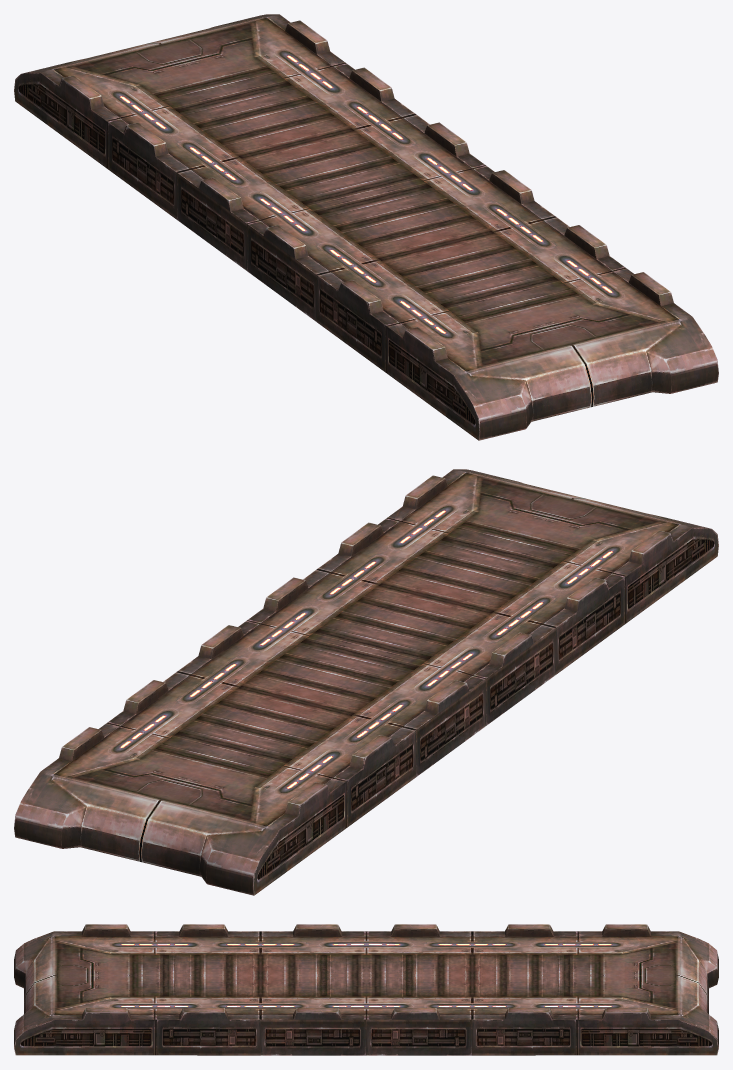
Rendered from kor_vod_ruins_ramp.glb.
3 views of the same model, one above another, from view 1: azimuth 30°, elevation 25°; view 2: azimuth 150°, elevation 25°; view 3: azimuth 270°, elevation 25° (orthographic). The views are drawn at different scales.
Visible parts, largest first — view 1: kor_vod_ruins_ramp; view 2: kor_vod_ruins_ramp; view 3: kor_vod_ruins_ramp.
Part boxes in pixels (x1,y1,x2,y2): kor_vod_ruins_ramp: [14, 14, 718, 440]; kor_vod_ruins_ramp: [14, 469, 718, 895]; kor_vod_ruins_ramp: [14, 924, 718, 1055].
Size of the model in its own units: 0.4503 by 0.102 by 1.52.
Materials: 1 (1 with a texture image).
